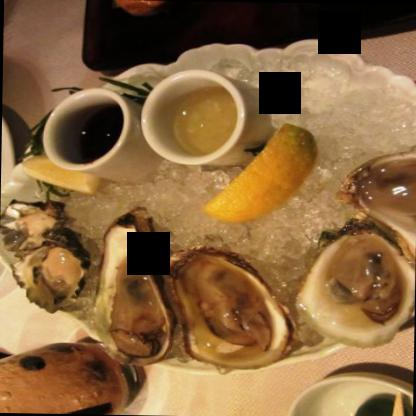oyster: (168, 248, 289, 362), (86, 206, 176, 359), (296, 230, 414, 344), (339, 146, 415, 266), (18, 233, 82, 310)
